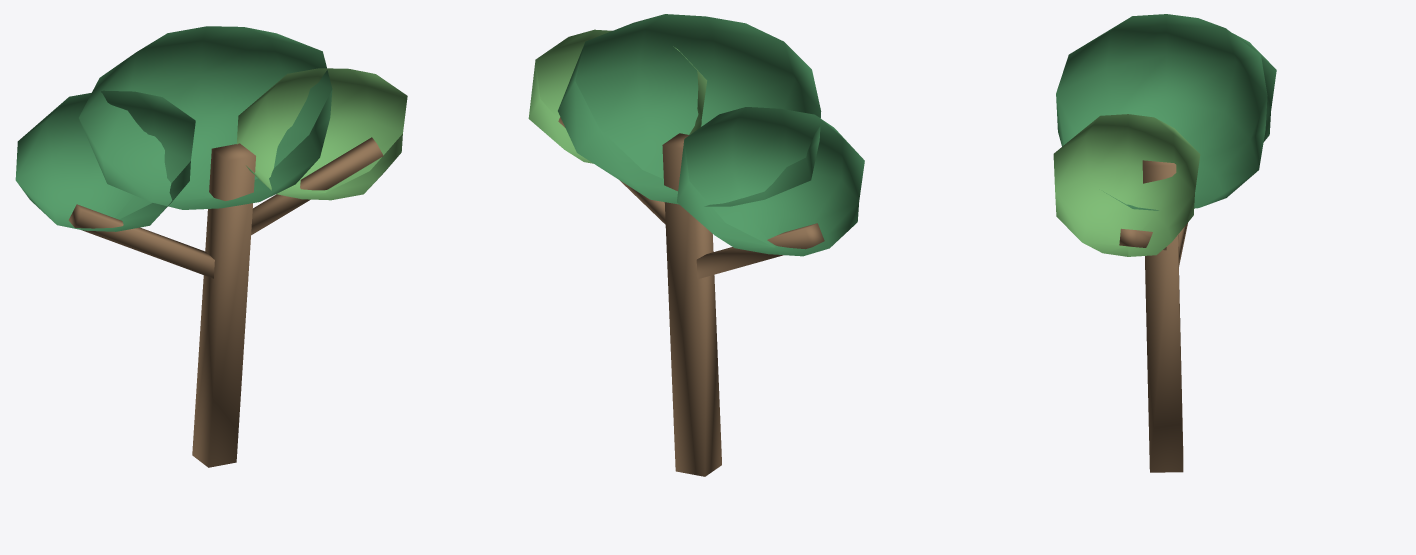
Rendered from foliage.gltf.
3 views of the same model, side by side, from view 1: azimuth 30°, elevation 25°; view 2: azimuth 150°, elevation 25°; view 3: azimuth 270°, elevation 25° (orthographic). The views are drawn at different scales.
Visible parts, largest first — view 1: overlapping canopy core, tapered main trunk, shadow side canopy, sunlit side canopy, left branch, right branch; view 2: overlapping canopy core, shadow side canopy, tapered main trunk, sunlit side canopy, left branch; view 3: overlapping canopy core, sunlit side canopy, tapered main trunk, shadow side canopy, right branch.
Part boxes in pixels (x1,y1,x2,y2): overlapping canopy core: [79, 26, 332, 209]; tapered main trunk: [192, 143, 255, 467]; shadow side canopy: [15, 90, 195, 231]; sunlit side canopy: [236, 68, 407, 200]; left branch: [68, 204, 214, 278]; right branch: [251, 137, 383, 235]; overlapping canopy core: [558, 14, 821, 206]; shadow side canopy: [677, 107, 864, 256]; tapered main trunk: [662, 133, 721, 476]; sunlit side canopy: [528, 29, 707, 163]; left branch: [696, 223, 824, 278]; overlapping canopy core: [1056, 14, 1267, 210]; sunlit side canopy: [1053, 114, 1200, 256]; tapered main trunk: [1142, 160, 1183, 472]; shadow side canopy: [1232, 33, 1276, 141]; right branch: [1119, 228, 1166, 250].
Bounding box in the file's own units: 1.88 × 2.01 × 1.85.
